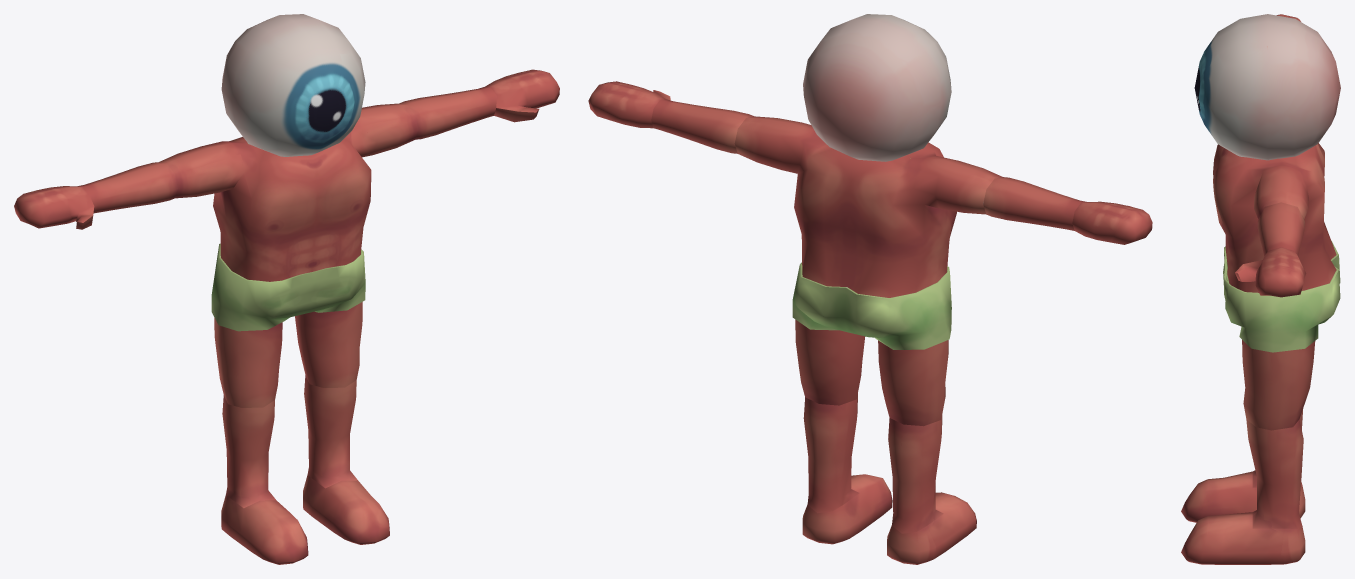
Rendered from Eyeclops.fbx.
The picture shows the model from 3 angles, left to right: view 1: azimuth 30°, elevation 25°; view 2: azimuth 150°, elevation 25°; view 3: azimuth 270°, elevation 25°; orthographic projection. The views are drawn at different scales.
Visible parts, largest first — view 1: Eyeclops; view 2: Eyeclops; view 3: Eyeclops.
Part boxes in pixels (x1,y1,x2,y2): Eyeclops: (14, 14, 559, 564); Eyeclops: (588, 14, 1152, 564); Eyeclops: (1181, 14, 1340, 564).
Bounding box in the file's own units: 184 × 723 × 654.
